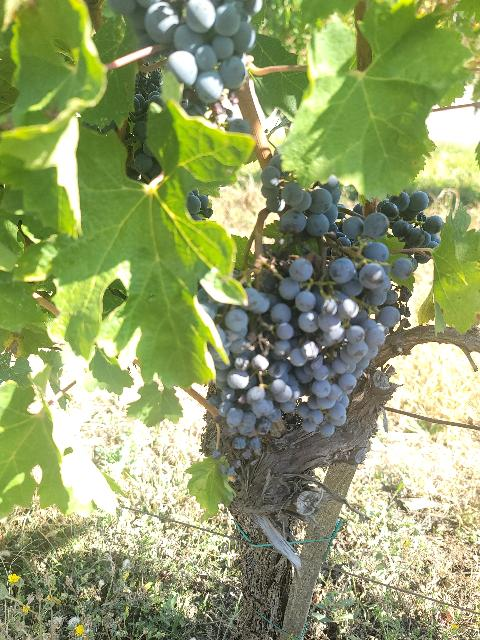grapes: (250, 258, 400, 436), (216, 288, 281, 450)
